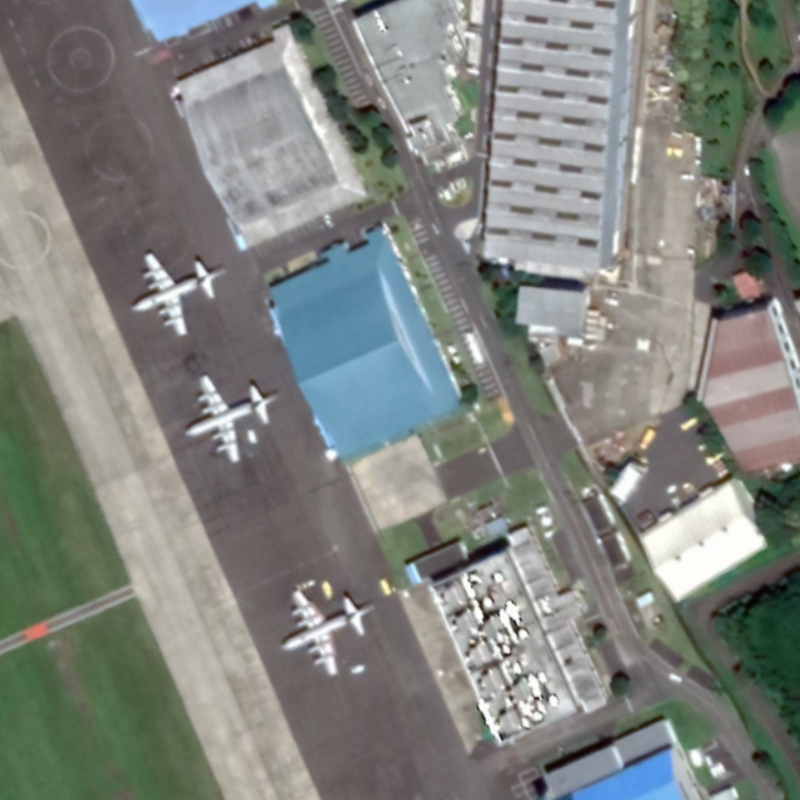A9: (178, 366, 288, 471), (271, 581, 382, 678), (122, 245, 232, 340)
